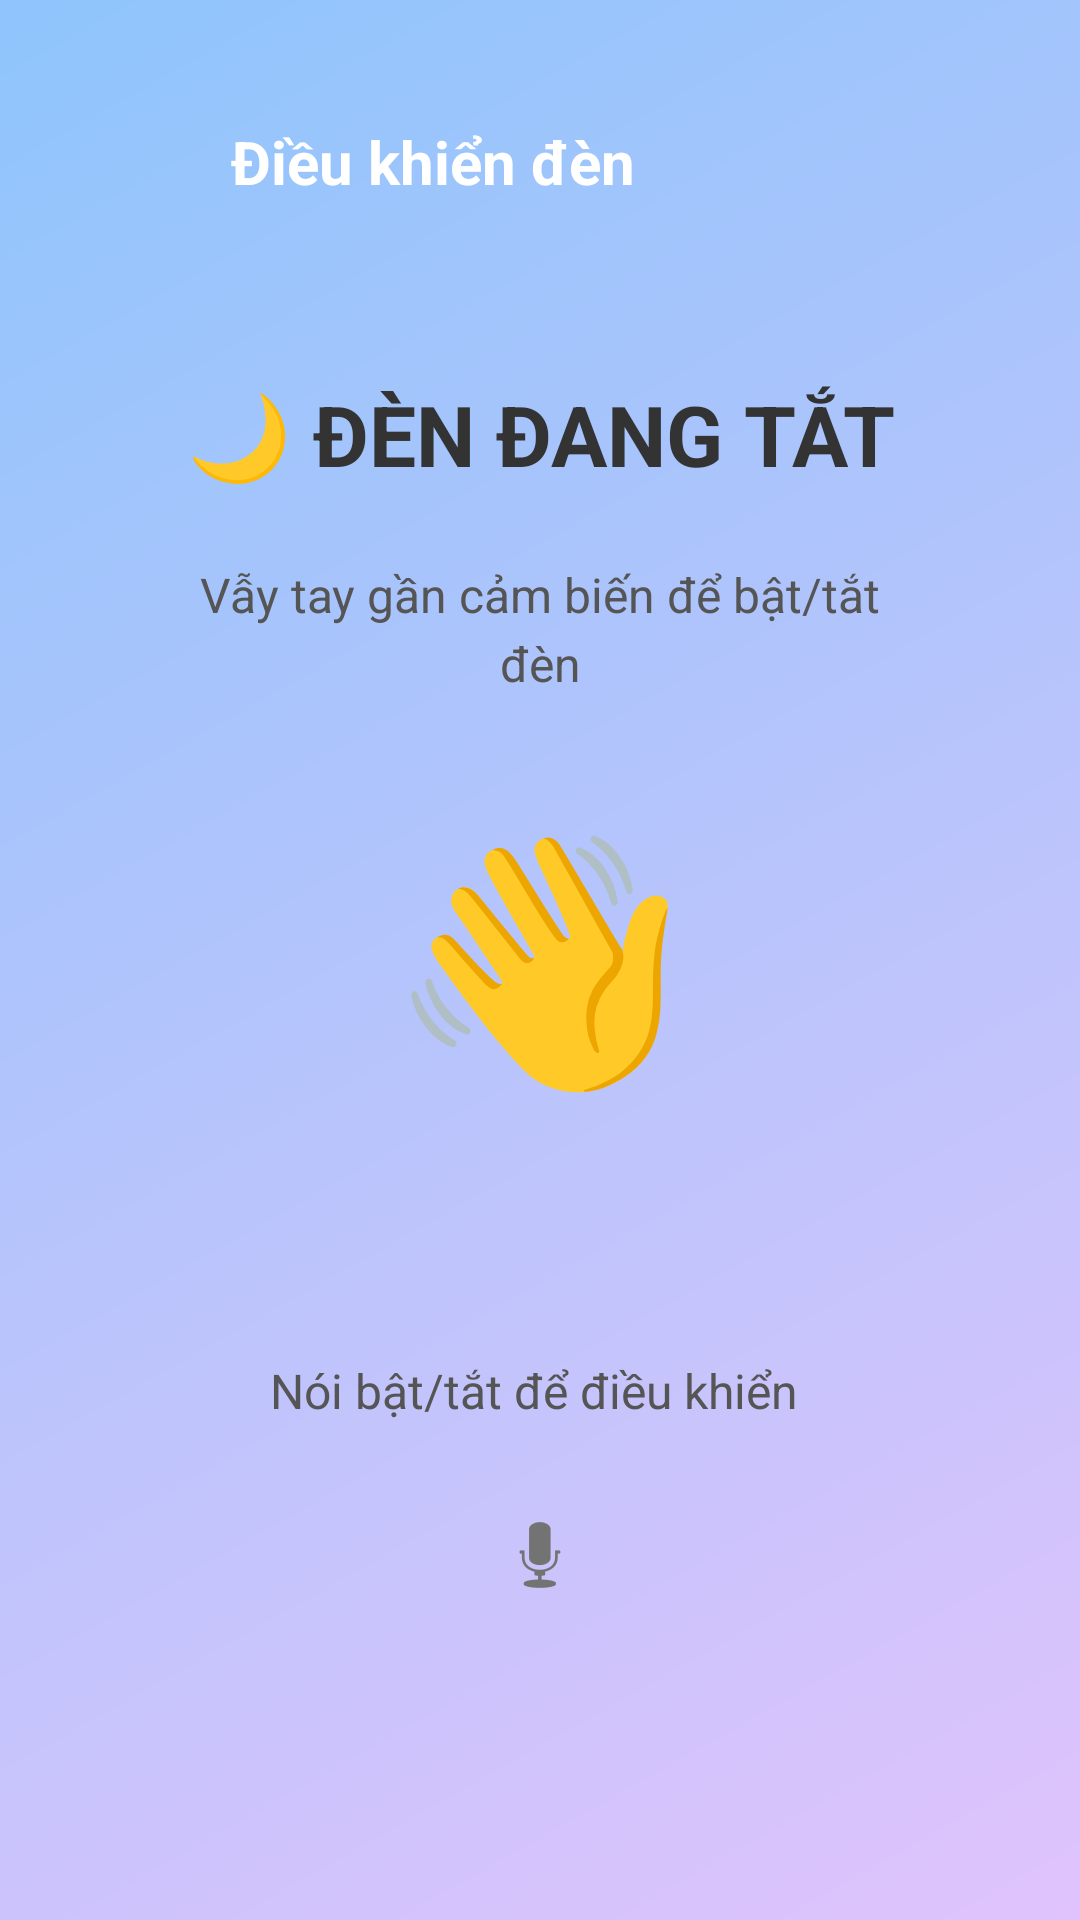

Where to tap for icons on this 1080×1920 app screen, as [x,y]:
Voice Control: [540,1555]
